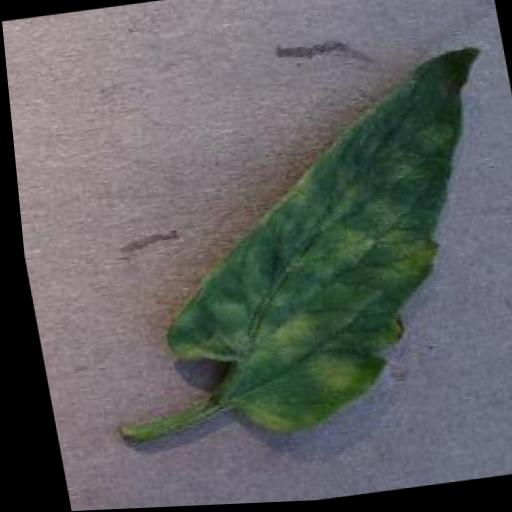Leaf Mold: (121, 48, 512, 446)
